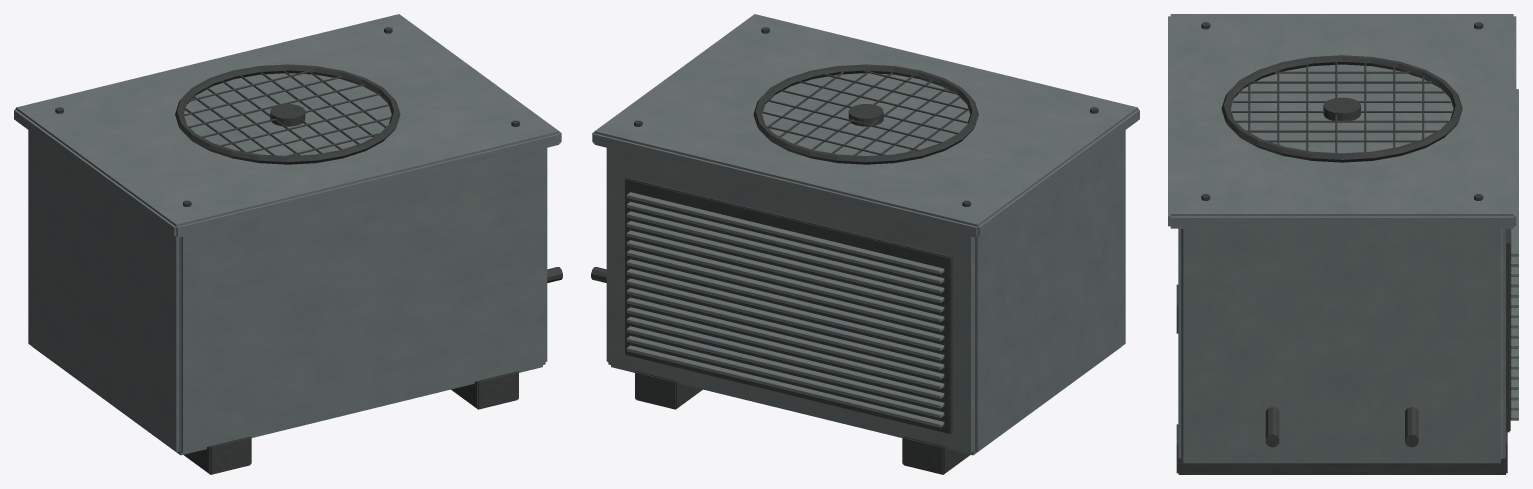
The model's file is Condenser.fbx.
3 views of the same model, side by side, from view 1: azimuth 30°, elevation 25°; view 2: azimuth 150°, elevation 25°; view 3: azimuth 270°, elevation 25° (orthographic). The views are drawn at different scales.
Parts seen in each view (by area): view 1: Condenser; view 2: Condenser; view 3: Condenser.
Part boxes in pixels (<box>): Condenser: <box>14,14,562,474</box>; Condenser: <box>591,14,1139,474</box>; Condenser: <box>1168,14,1518,474</box>.
Size of the model in its own units: 184 by 110 by 121.
